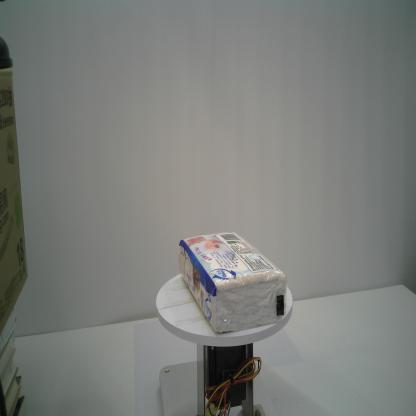Tissue: (178, 231, 287, 333)
